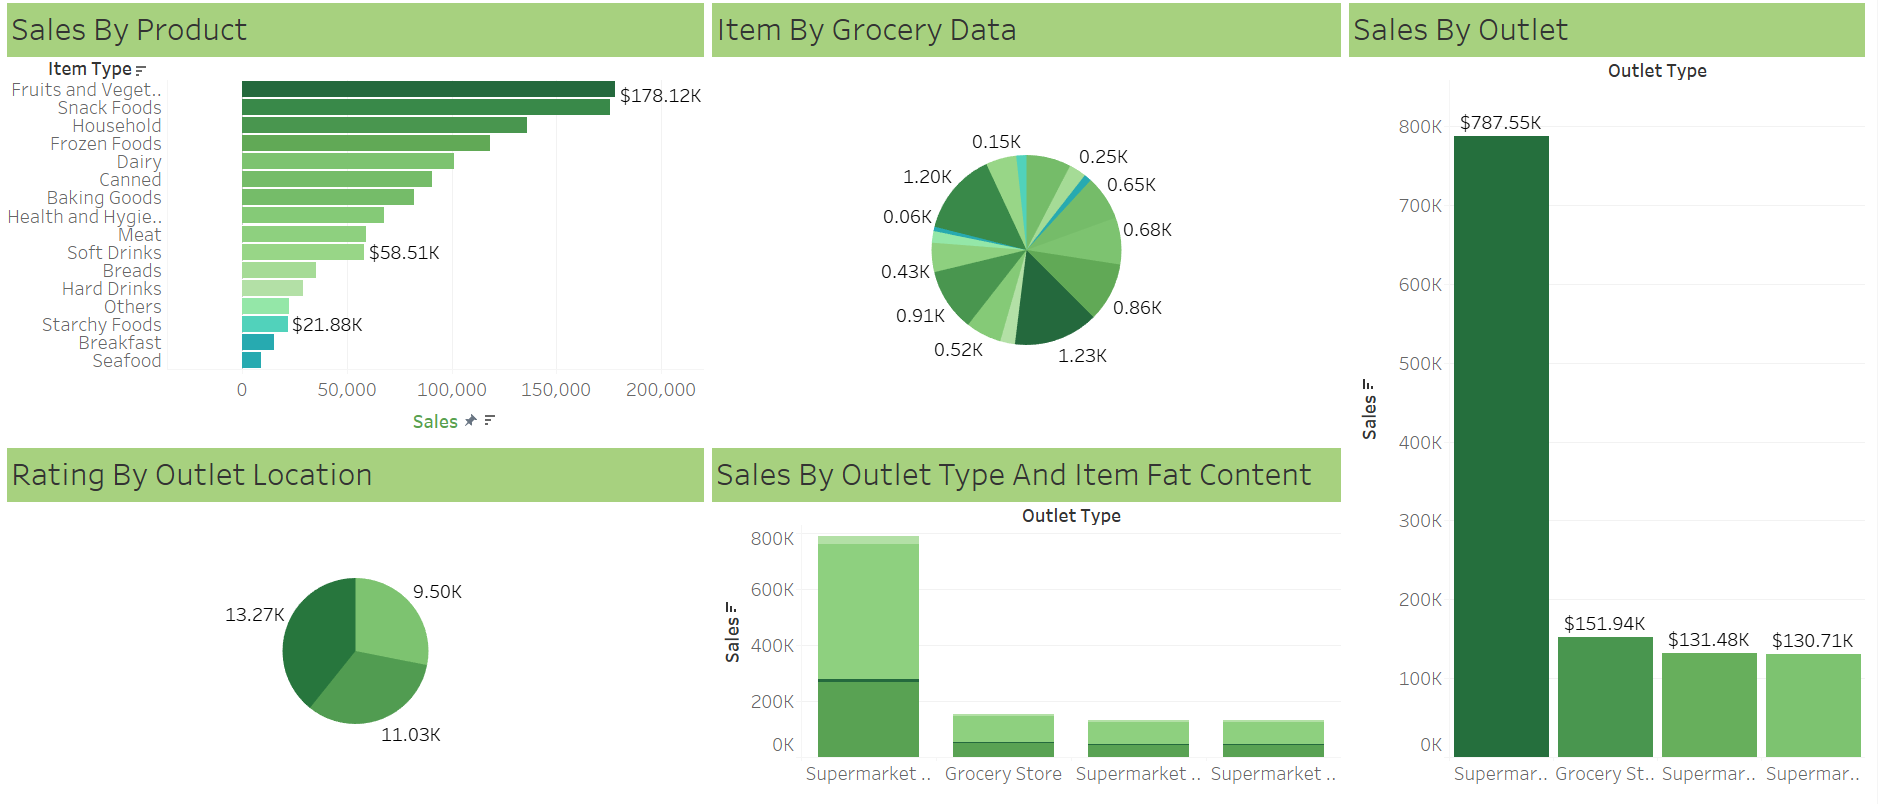

This screenshot's page, from the dashboard's own definition file:
{"tool":"tableau","page":{"name":"Dashboard 1","canvas":[1000,1000],"units":"permille","ordinal":0},"visuals":[{"type":"worksheet","title":"Sheet 1","mark":"Automatic","rows":["Item Type"],"cols":["Sales"],"box":[5,9.8,374,544]},{"type":"worksheet","title":"Rating By Fat Content","mark":"Pie","box":[379,9.8,338,544]},{"type":"worksheet","title":"Sheet 2","mark":"Automatic","rows":["Sales"],"cols":["Outlet Type"],"box":[717,9.8,278.1,980.4]},{"type":"worksheet","title":"Sheet 3","mark":"Pie","box":[5,553.8,374,436.4]},{"type":"worksheet","title":"Sheet 4","mark":"Automatic","rows":["Sales"],"cols":["Outlet Type"],"box":[379,553.8,338,436.4]}]}

Visuals, with their boxes on the dashboard's canvas, which has no fixed pixel size, in thousandths of its width and height (x1, y1, x2, y2). These are canvas units, not pixel positions in the 1878x804 screenshot, which may show the page scaled, cropped or inside an application window:
"Sheet 1" worksheet: box=[5, 10, 379, 554]
"Rating By Fat Content" worksheet (Pie marks): box=[379, 10, 717, 554]
"Sheet 2" worksheet: box=[717, 10, 995, 990]
"Sheet 3" worksheet (Pie marks): box=[5, 554, 379, 990]
"Sheet 4" worksheet: box=[379, 554, 717, 990]
